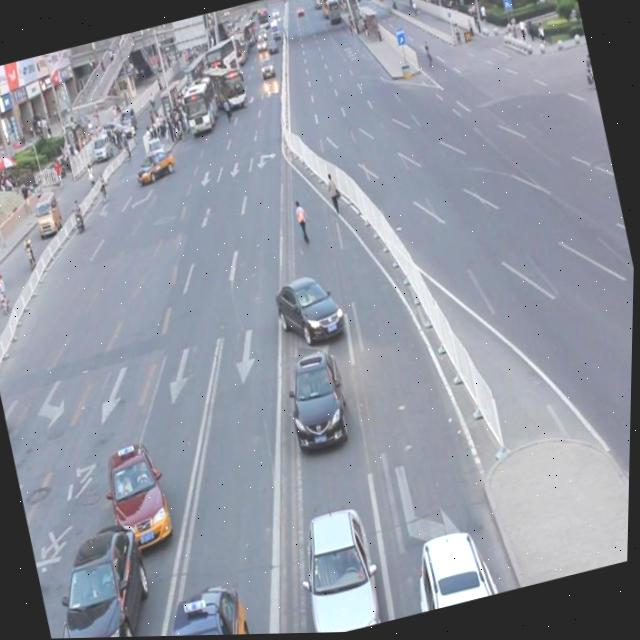car: (39, 516, 170, 639), (287, 499, 388, 635), (97, 434, 181, 557), (406, 520, 510, 615), (278, 345, 360, 460), (140, 572, 260, 637), (271, 268, 351, 356)
